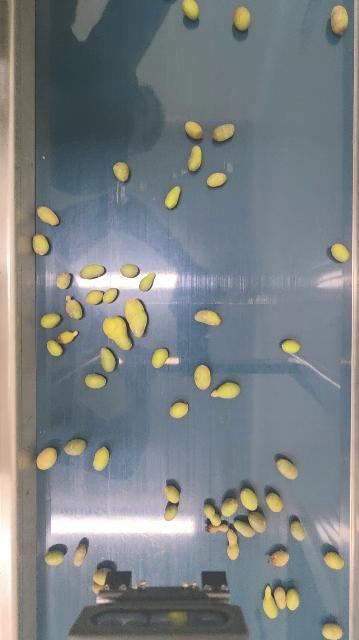Baby Potato: (101, 314, 134, 352), (122, 295, 149, 338), (211, 379, 242, 401), (330, 4, 351, 35), (276, 456, 300, 480), (36, 445, 59, 470), (194, 363, 213, 391), (194, 309, 223, 327), (233, 5, 252, 32), (37, 205, 60, 227), (263, 586, 278, 619), (226, 527, 241, 560), (65, 295, 84, 321), (187, 144, 204, 173), (99, 346, 117, 373), (180, 0, 202, 22), (212, 122, 236, 142), (80, 263, 106, 281), (234, 518, 256, 539), (248, 510, 268, 533), (164, 183, 181, 210), (93, 446, 110, 472), (325, 550, 346, 571), (241, 487, 259, 511), (184, 119, 204, 140), (322, 621, 344, 640), (64, 438, 87, 456), (32, 233, 50, 256), (151, 347, 170, 368), (332, 242, 351, 263), (266, 491, 284, 513), (113, 160, 130, 183), (290, 519, 307, 542), (40, 311, 61, 329), (221, 496, 239, 517), (269, 550, 291, 567), (85, 372, 107, 389), (139, 270, 156, 292), (206, 171, 228, 188), (204, 503, 220, 526), (274, 585, 288, 611), (286, 587, 301, 611), (170, 401, 189, 419), (164, 484, 181, 504), (85, 288, 105, 305), (44, 550, 65, 566), (57, 329, 79, 344), (73, 544, 87, 567), (282, 338, 302, 354), (205, 523, 229, 536), (46, 339, 63, 357), (92, 568, 109, 585), (56, 271, 71, 290), (120, 263, 139, 278), (164, 503, 178, 522), (103, 287, 119, 303), (91, 583, 101, 593)
